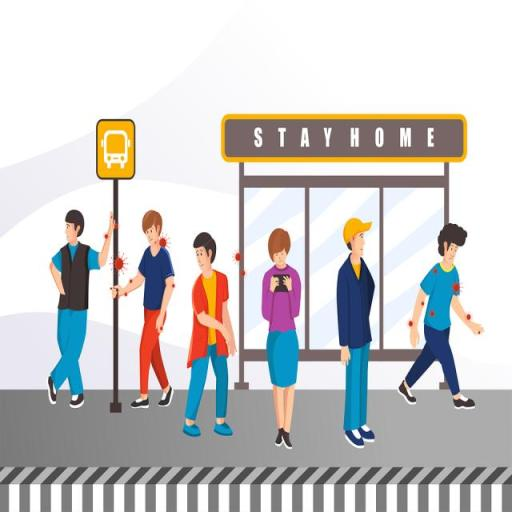person: (397, 220, 487, 411), (47, 199, 116, 413), (117, 207, 178, 409), (185, 231, 236, 437), (338, 218, 383, 450), (264, 228, 303, 455)
